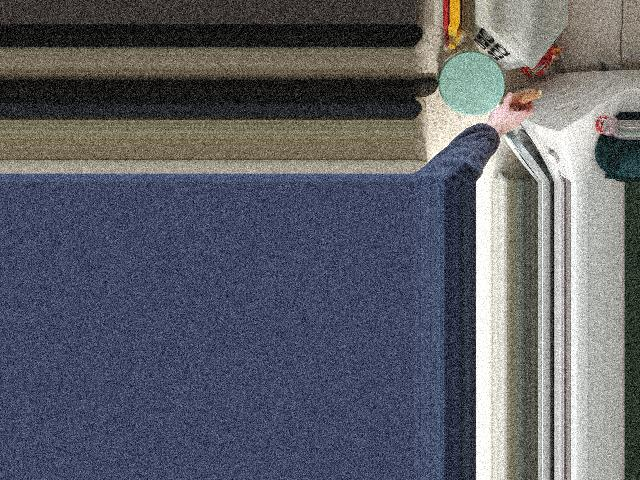sweet_potato: (489, 89, 541, 118)
